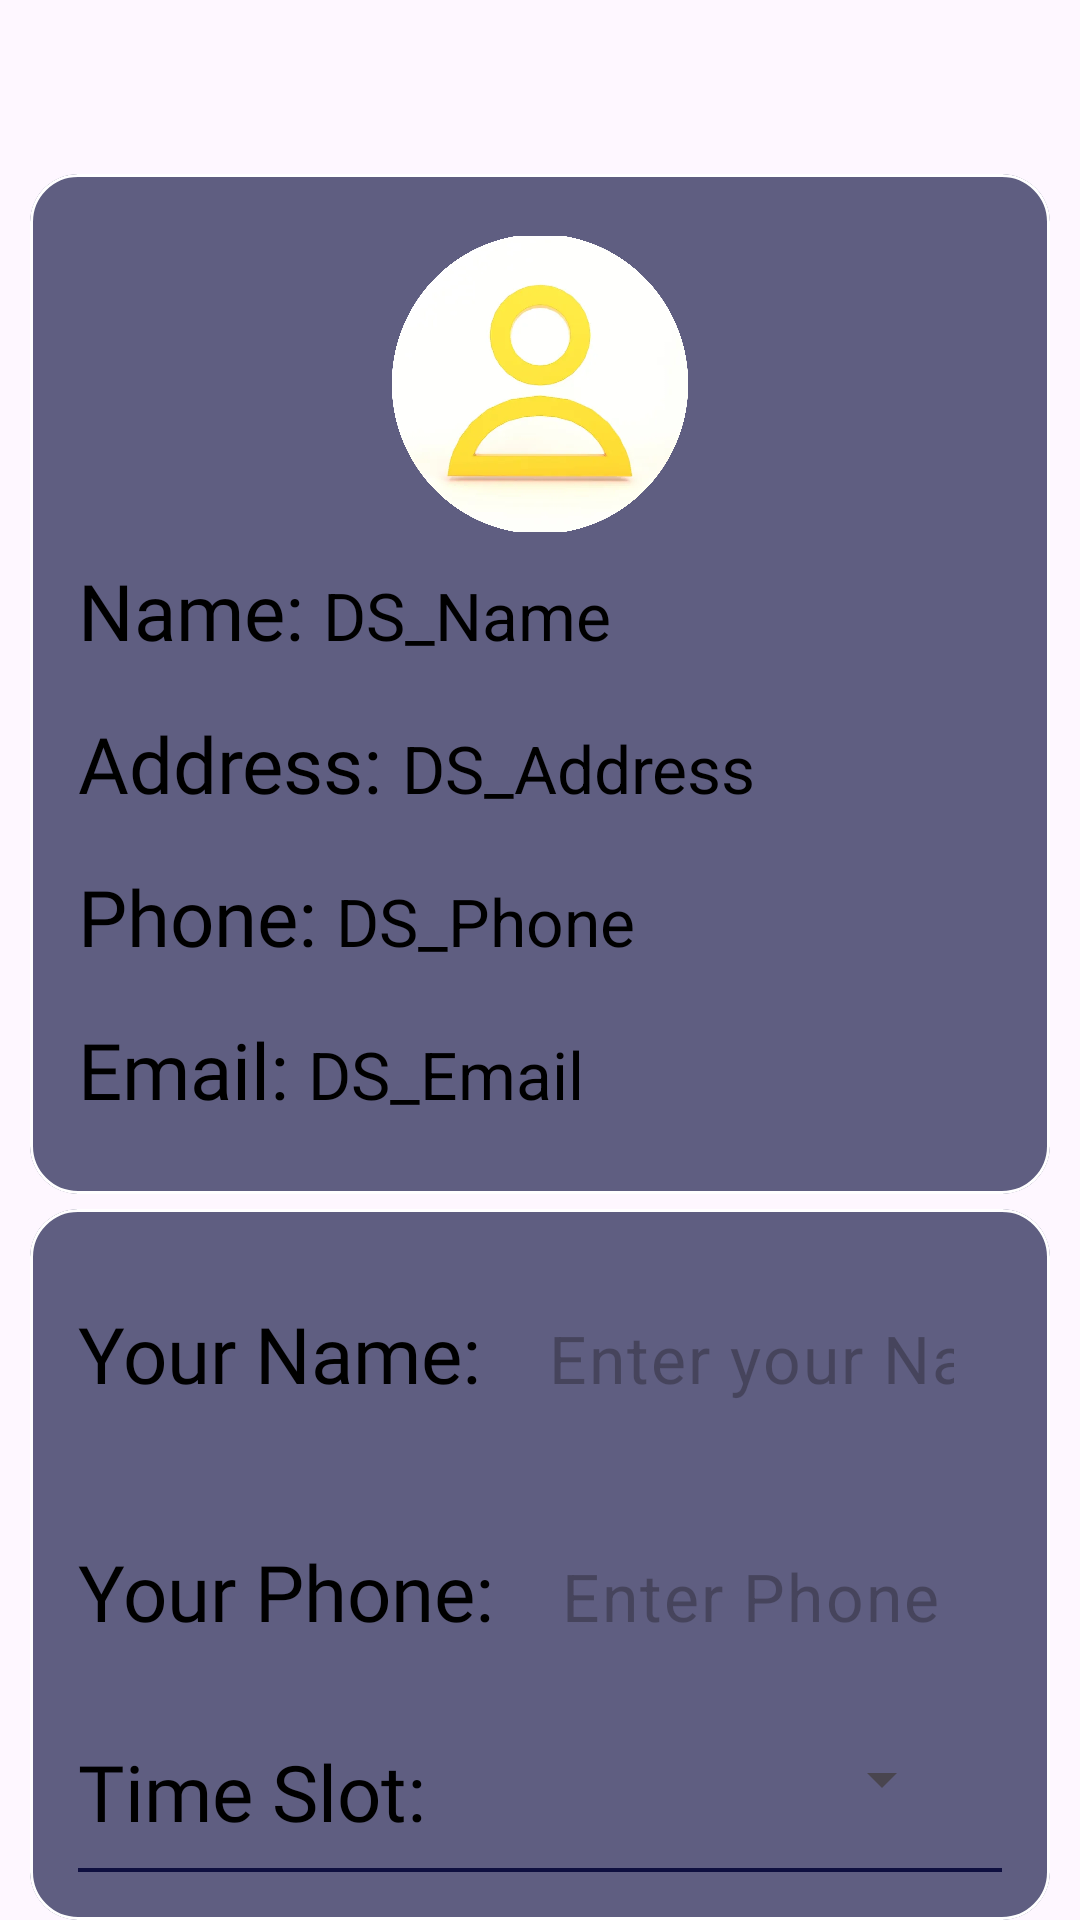

Named icons in this screenshot (1080 × 1920) and their bounding boxes, {"x1": x1, "y1": y1, "x2": x2, "y2": y2}:
profile pic: {"x1": 392, "y1": 236, "x2": 688, "y2": 532}
